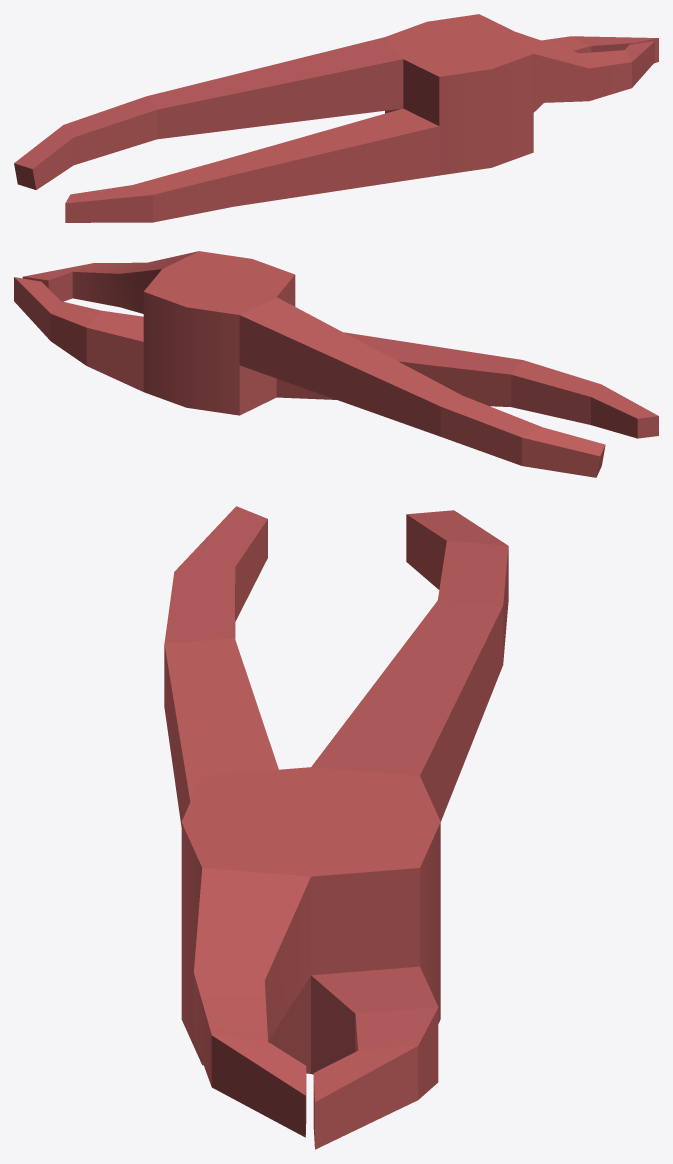
Rendered from pince_forge.fbx.
The picture shows the model from 3 angles, top to bottom: view 1: azimuth 30°, elevation 25°; view 2: azimuth 150°, elevation 25°; view 3: azimuth 270°, elevation 25°; orthographic projection. The views are drawn at different scales.
Visible parts, largest first — view 1: pinceForge; view 2: pinceForge; view 3: pinceForge.
Part boxes in pixels (x1,y1,x2,y2): pinceForge: [14, 14, 658, 222]; pinceForge: [14, 251, 658, 477]; pinceForge: [164, 506, 508, 1149].
Bounding box in the file's own units: 0.2865 × 0.044 × 0.0696.
